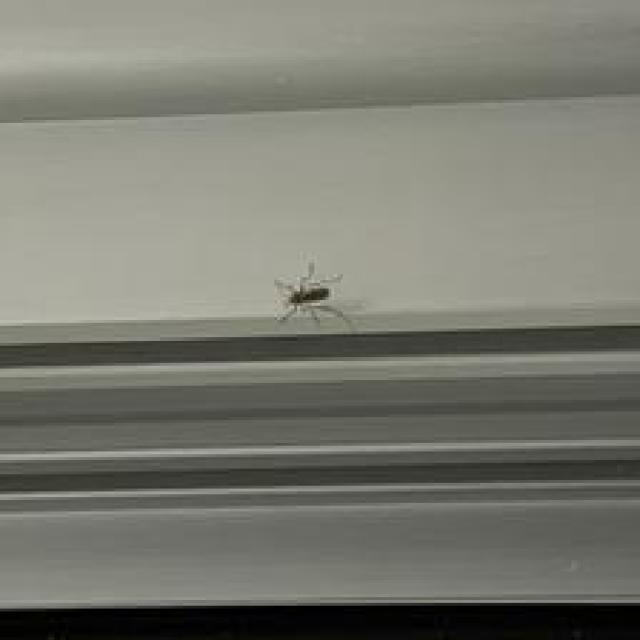Culex: (272, 261, 357, 333)
